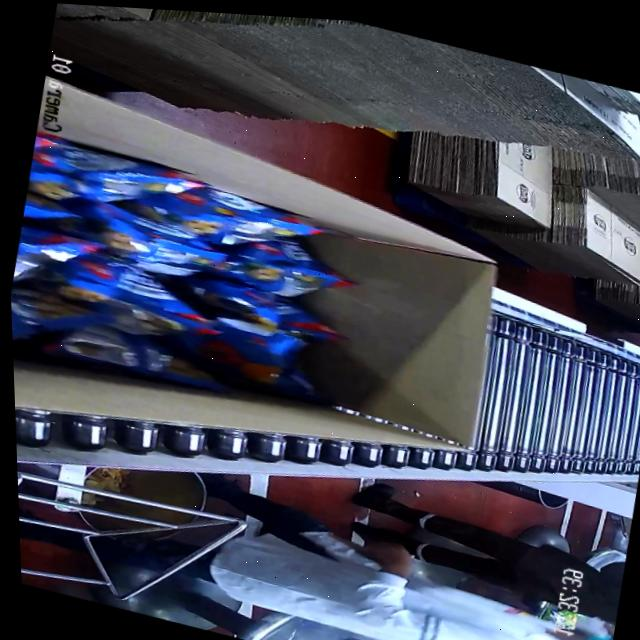PAPRIKA: (5, 128, 392, 431)
